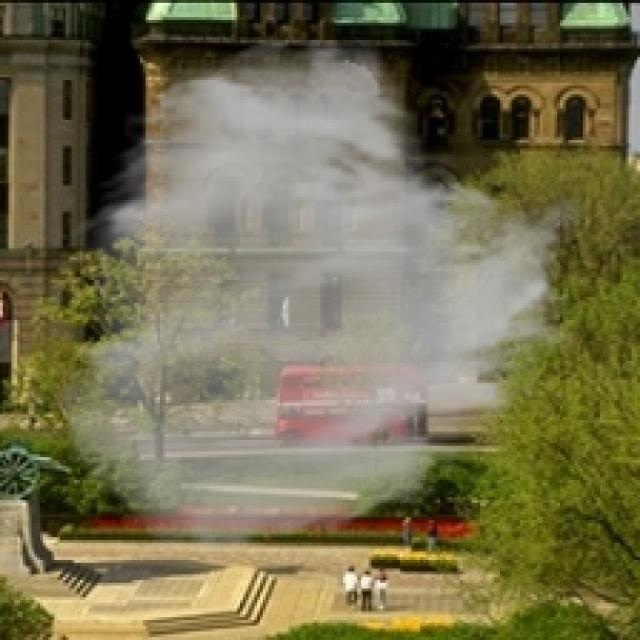Smoke: (54, 34, 589, 560)
